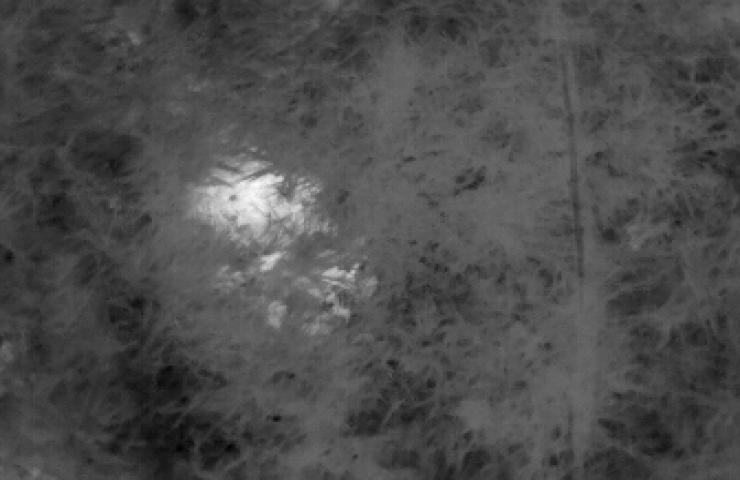landmines: (181, 145, 344, 253)
